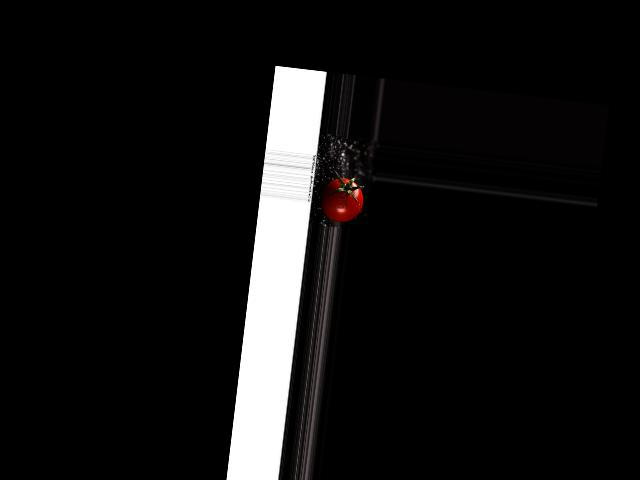tomato: (318, 175, 365, 224)
